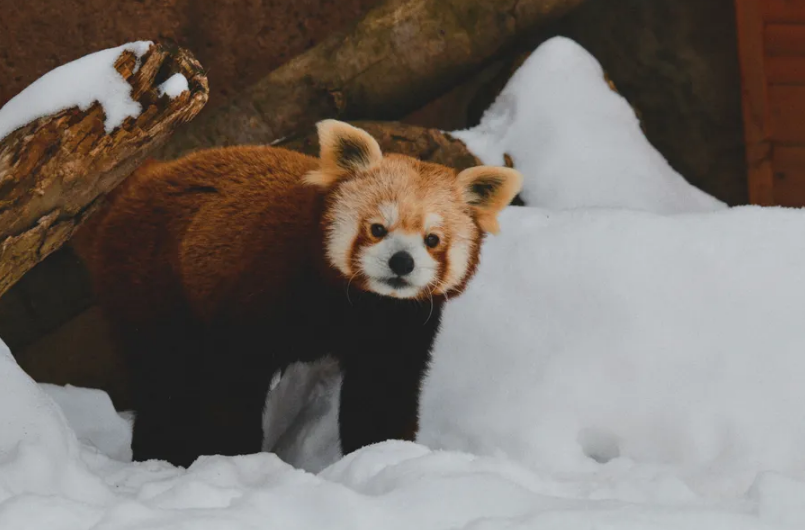red_panda: (90, 115, 531, 458)
